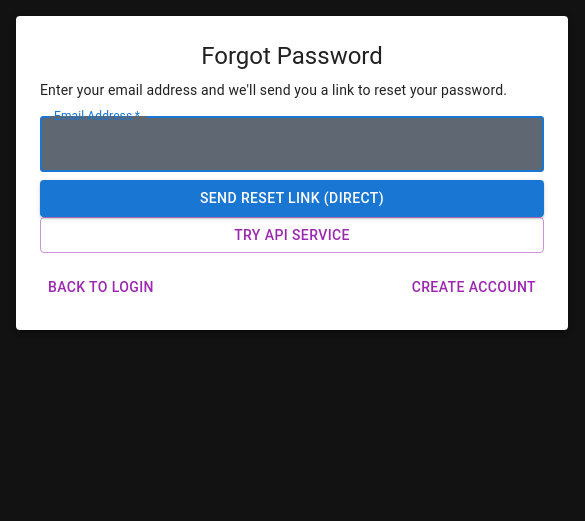
Test case: ForgotPassword Page › handles error in API service password reset request
Enter email
In the field labelled "Email Address *": [292, 144] box [40, 116, 544, 172], type "nonexistent@example.com"
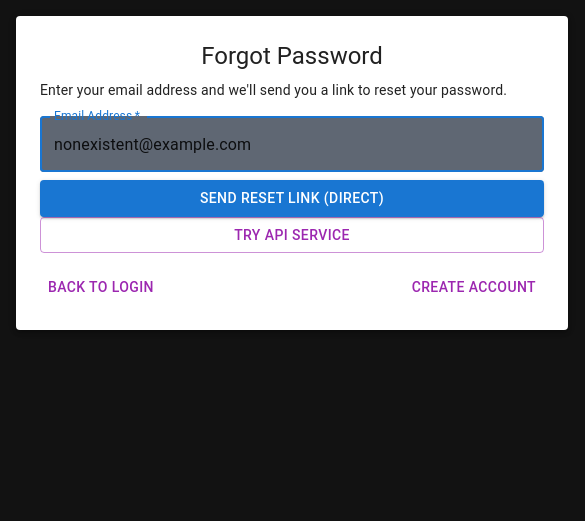
Submit using API service
Click the button "Try API Service": [292, 235] box [40, 216, 544, 253]
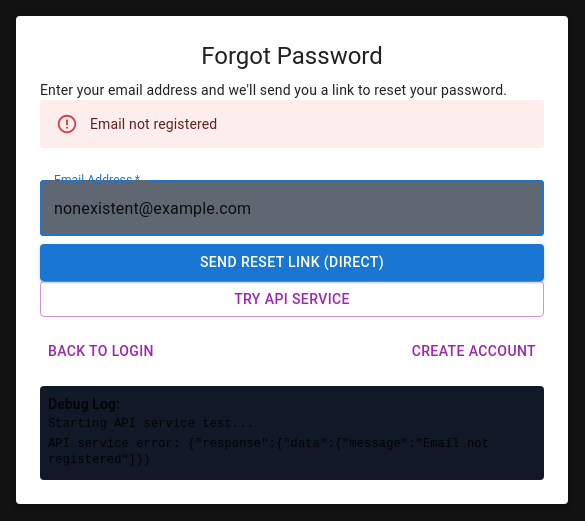
Check: the text "Email not registered" is shown, box [90, 116, 217, 132]
